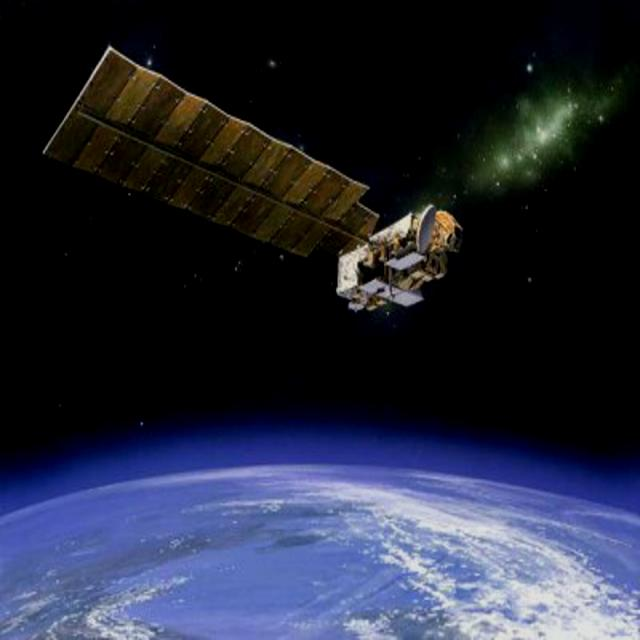satellite: (45, 51, 466, 328)
